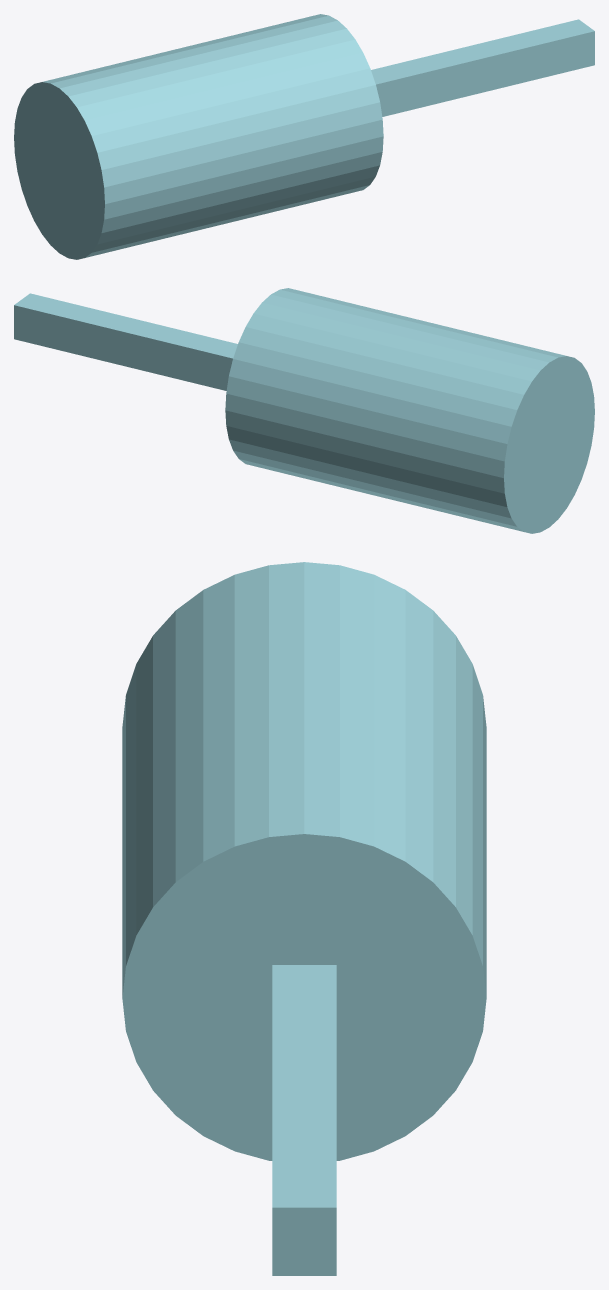
Rendered from cylinder_screwdriver_v3003.obj.
3 renders of one model, top to bottom at view 1: azimuth 30°, elevation 25°; view 2: azimuth 150°, elevation 25°; view 3: azimuth 270°, elevation 25°, orthographic. The views are drawn at different scales.
Bounding box in the file's own units: 0.2137 × 0.0639 × 0.0639.
Materials: 1 (1 with a texture image).
